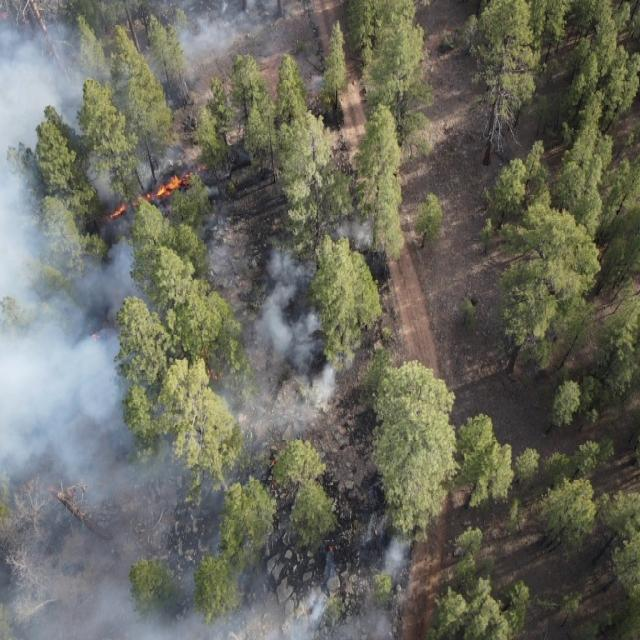fire: (98, 173, 197, 225), (47, 483, 76, 498), (206, 364, 226, 384), (90, 330, 103, 344), (269, 457, 277, 468), (270, 481, 278, 491), (326, 544, 334, 554)
smoke: (0, 129, 159, 639), (159, 193, 389, 445), (160, 445, 410, 640), (0, 0, 286, 130)
